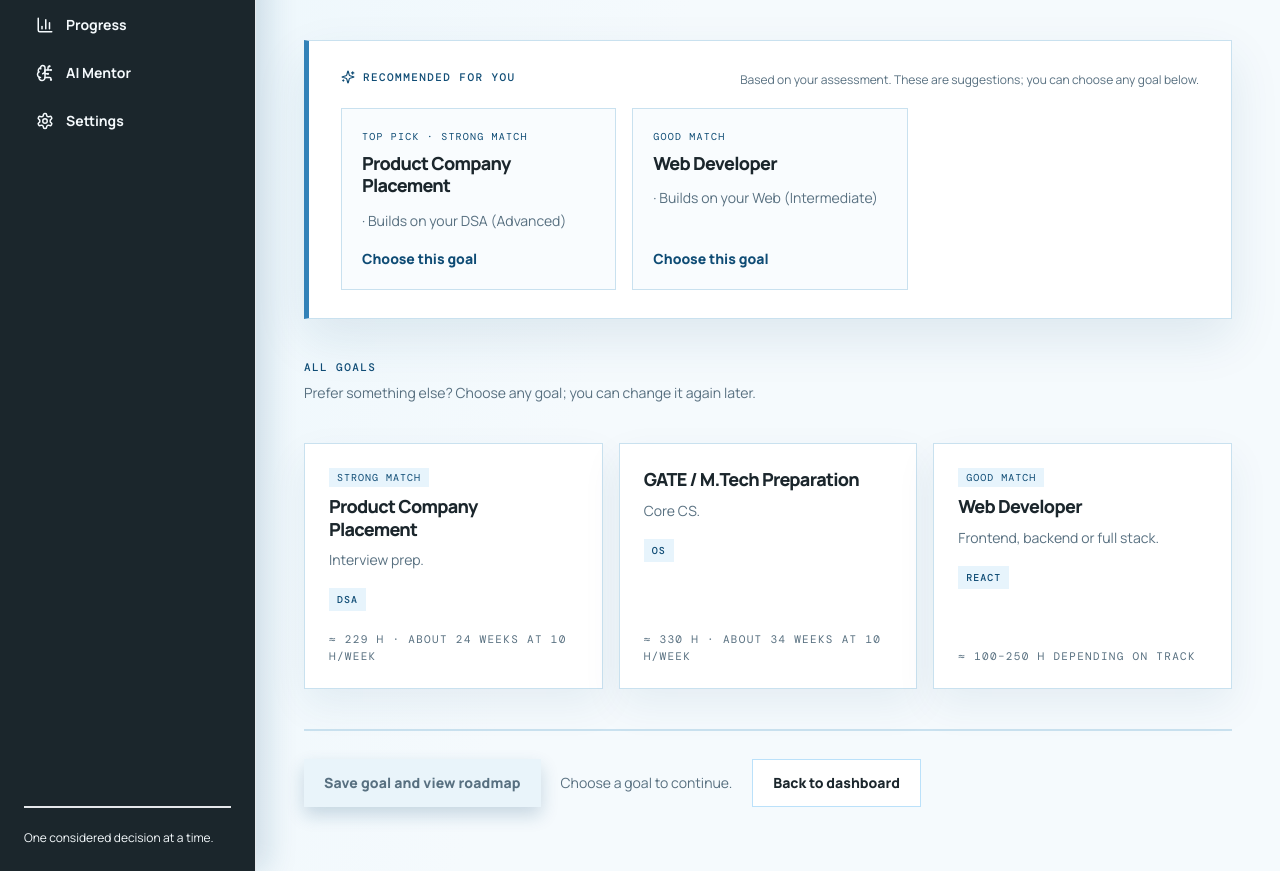
Test: goal page › shows a range for Web until a sub-track is chosen, then the exact weeks
The image size is (1280, 871).
(page scrolled)
Click the radio button labelled "Web Developer": (1001, 478) [933, 443, 1232, 689]
(page scrolled)
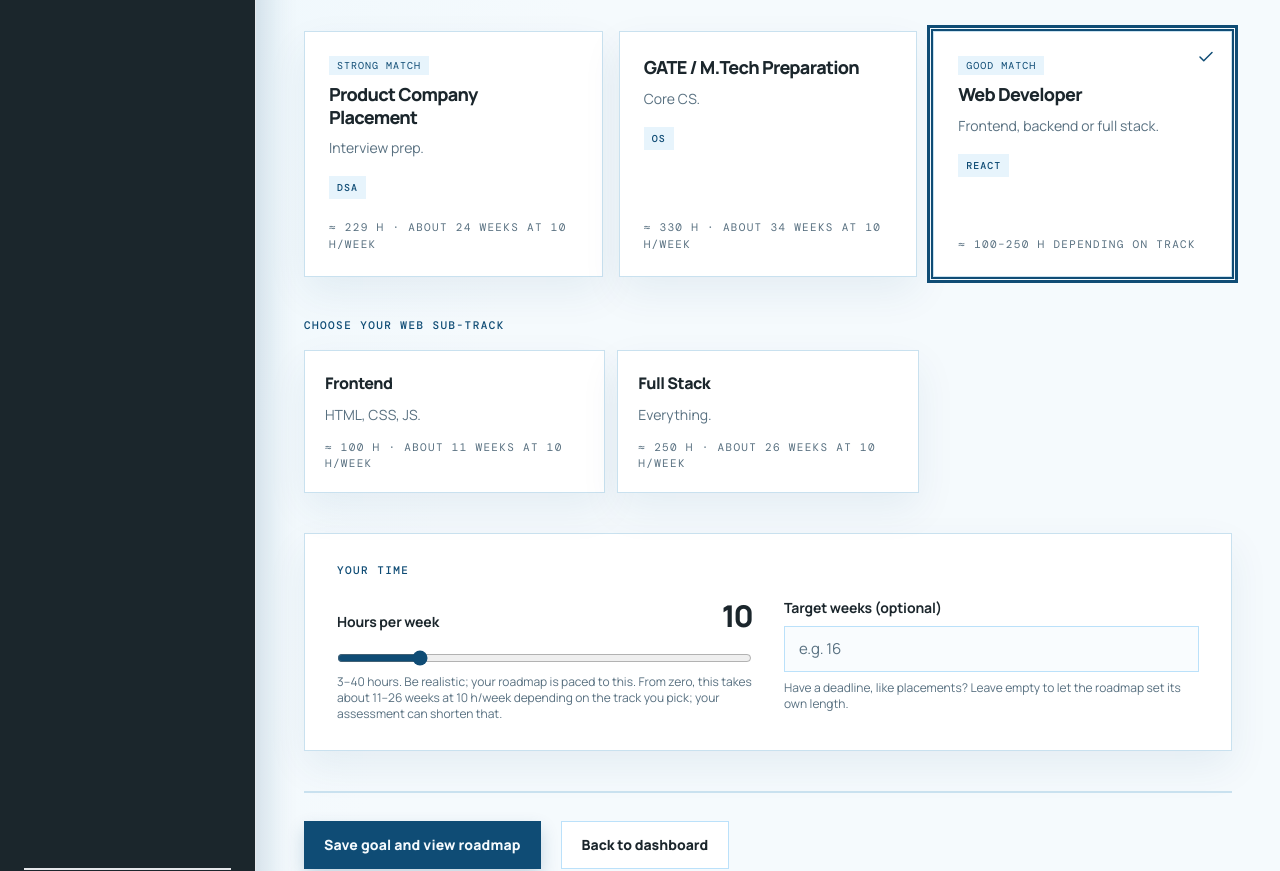
Expected: the text with id "hours-help" shows "about 11–26 weeks at 10 h/week depending on the track you pick", [337, 673, 752, 722]
Click the radio button labelled "Full Stack Everything. ≈ 250 h · about 26 weeks at 10 h/week": (674, 383) [617, 350, 919, 493]
(page scrolled)
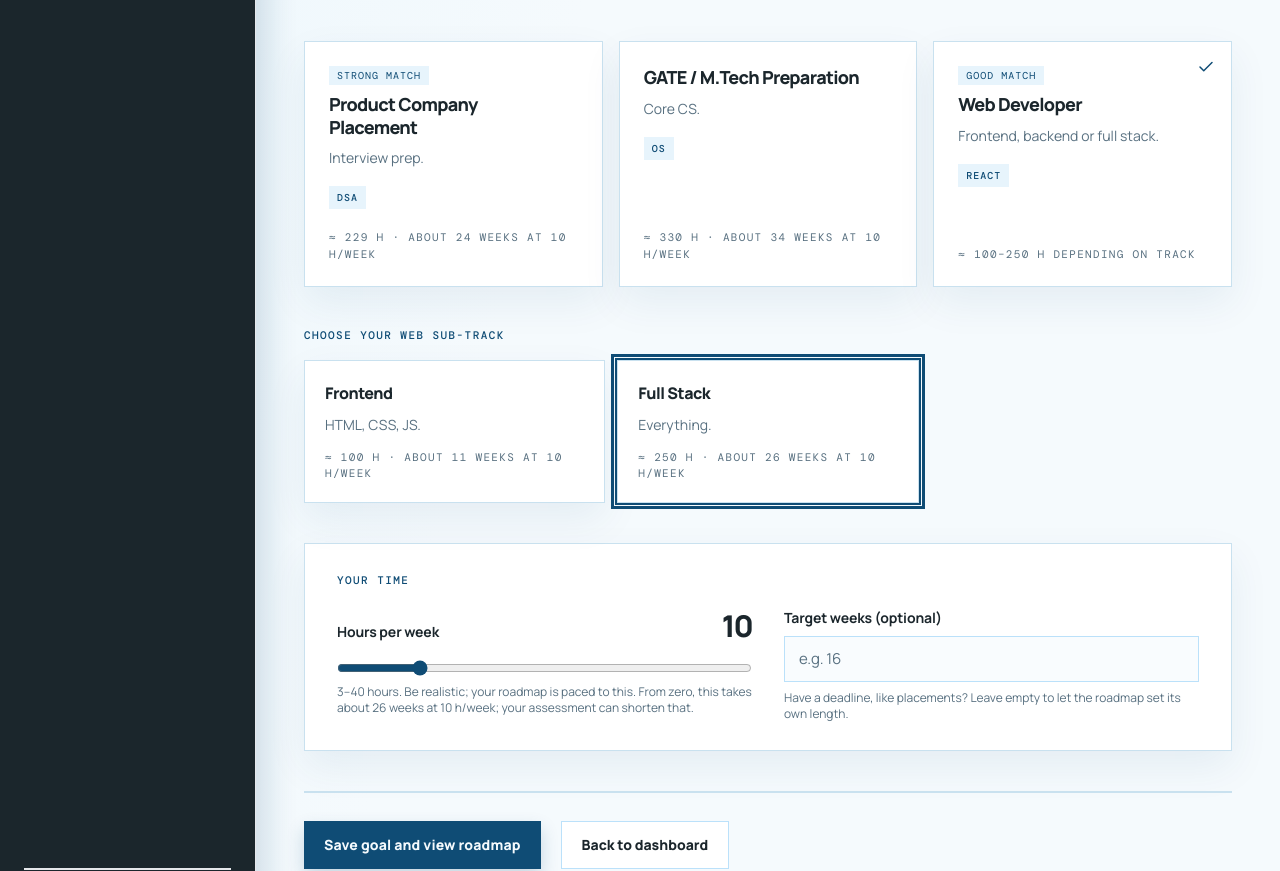
Expected: the text with id "hours-help" shows "about 26 weeks at 10 h/week", [337, 683, 752, 716]
Expected: the element with id "hours-help" no longer shows "depending"
Set the slider to "40": (744, 668) [337, 660, 752, 676]
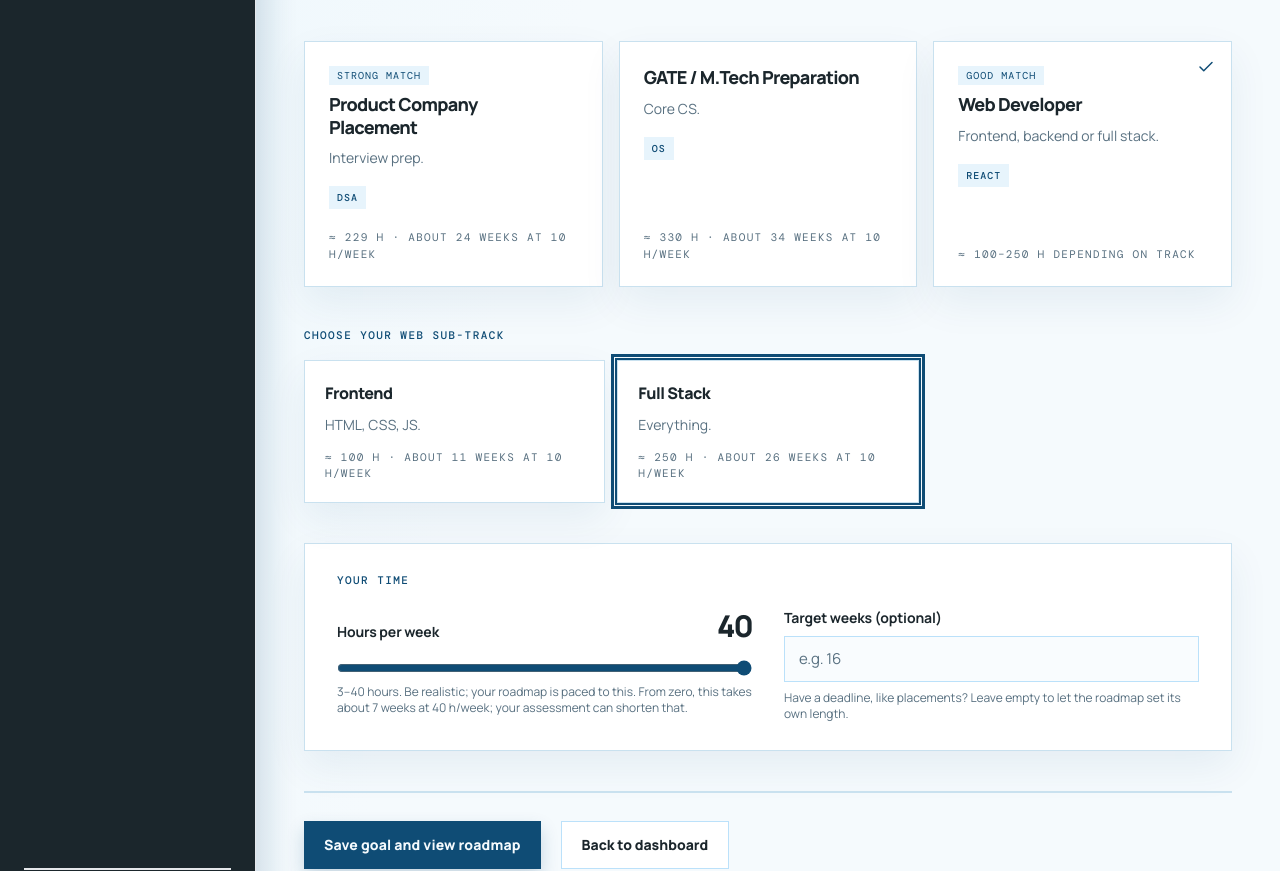
Expected: the text with id "hours-help" shows "about 7 weeks at 40 h/week", [337, 683, 752, 716]
